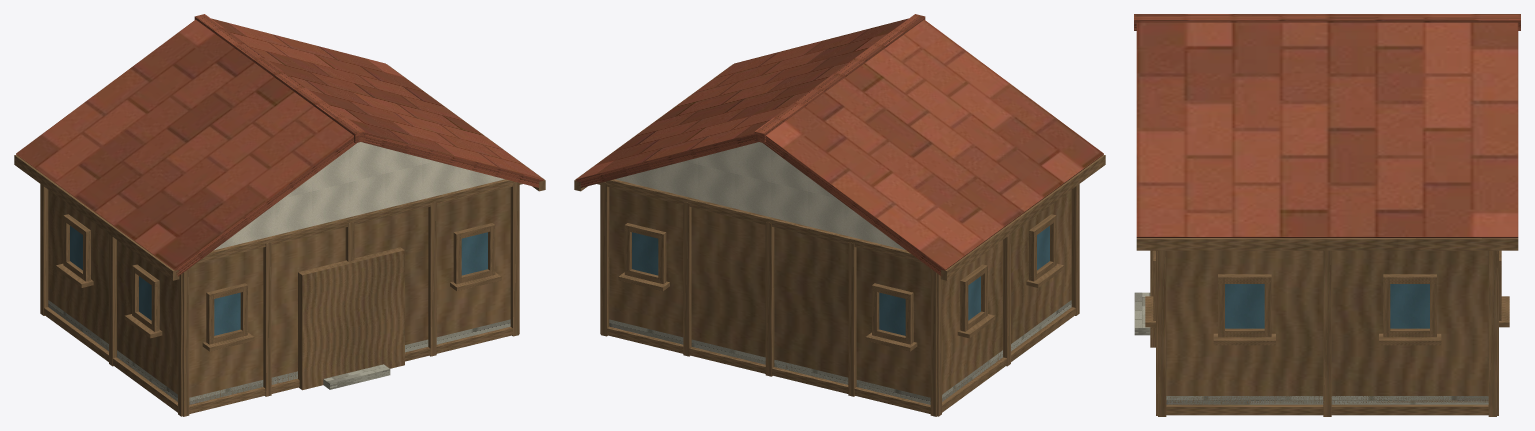
3 views of the same model, side by side, from view 1: azimuth 30°, elevation 25°; view 2: azimuth 150°, elevation 25°; view 3: azimuth 270°, elevation 25° (orthographic). The views are drawn at different scales.
Parts seen in each view (by area): view 1: house-wood, house-roof, house-plaster, house-stone, house-glass; view 2: house-wood, house-roof, house-plaster, house-stone, house-glass; view 3: house-roof, house-wood, house-glass, house-stone.
Part boxes in pixels (x1,y1,x2,y2): house-wood: (14, 64, 545, 416); house-roof: (16, 14, 543, 276); house-plaster: (214, 142, 504, 250); house-stone: (48, 300, 510, 404); house-glass: (70, 226, 487, 335); house-wood: (574, 64, 1105, 416); house-roof: (576, 14, 1103, 276); house-plaster: (615, 142, 905, 250); house-stone: (609, 300, 1071, 404); house-glass: (632, 226, 1049, 335); house-roof: (1134, 14, 1520, 237); house-wood: (1136, 238, 1518, 416); house-glass: (1225, 284, 1429, 328); house-stone: (1134, 292, 1488, 404).
Bounding box in the file's own units: 10.18 × 6.52 × 7.6.
5 materials, 5 textured.
